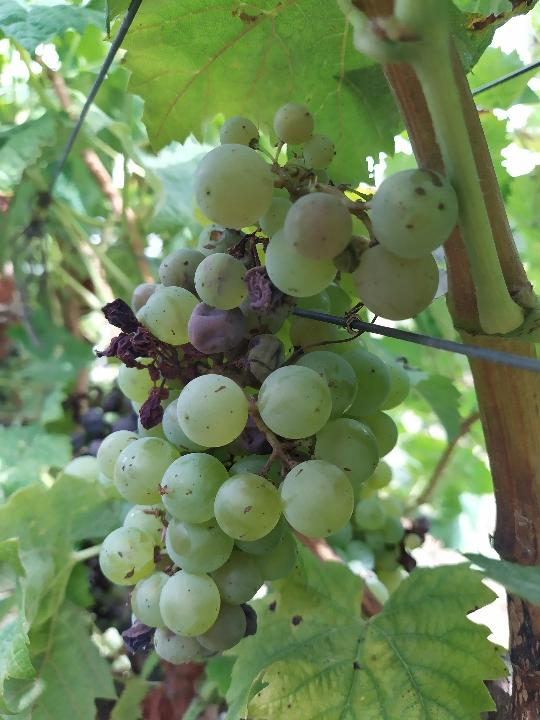grape: (92, 100, 461, 668)
